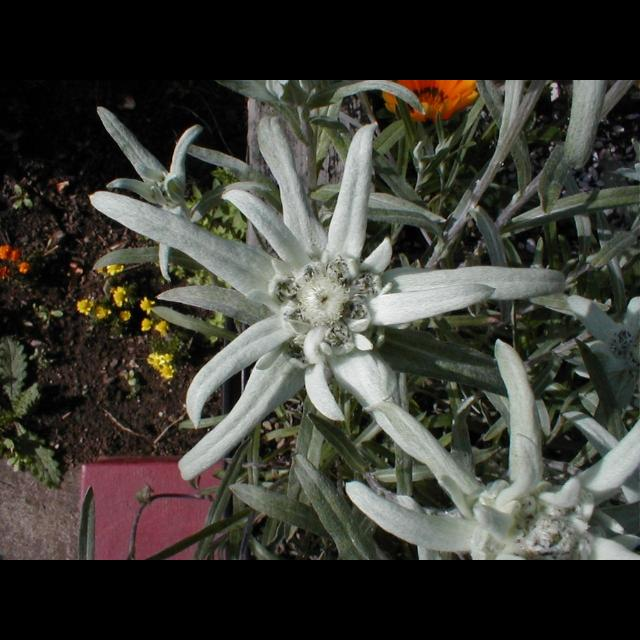Flower: (124, 100, 540, 498), (346, 335, 640, 559), (72, 258, 176, 336), (382, 80, 482, 120), (1, 246, 42, 282), (148, 348, 175, 384)
